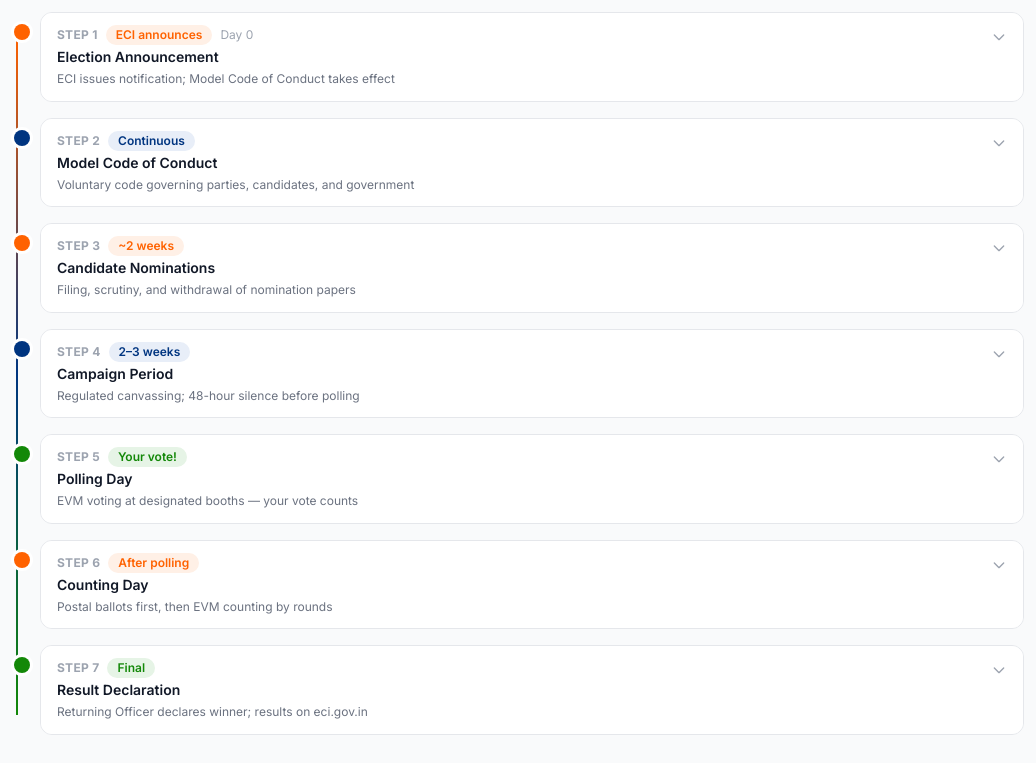
TimelineView › collapses an item when clicked again
This screenshot has width=1036, height=763.
Step 1. Click the 1st button → [75, 34], box [41, 13, 1023, 100]
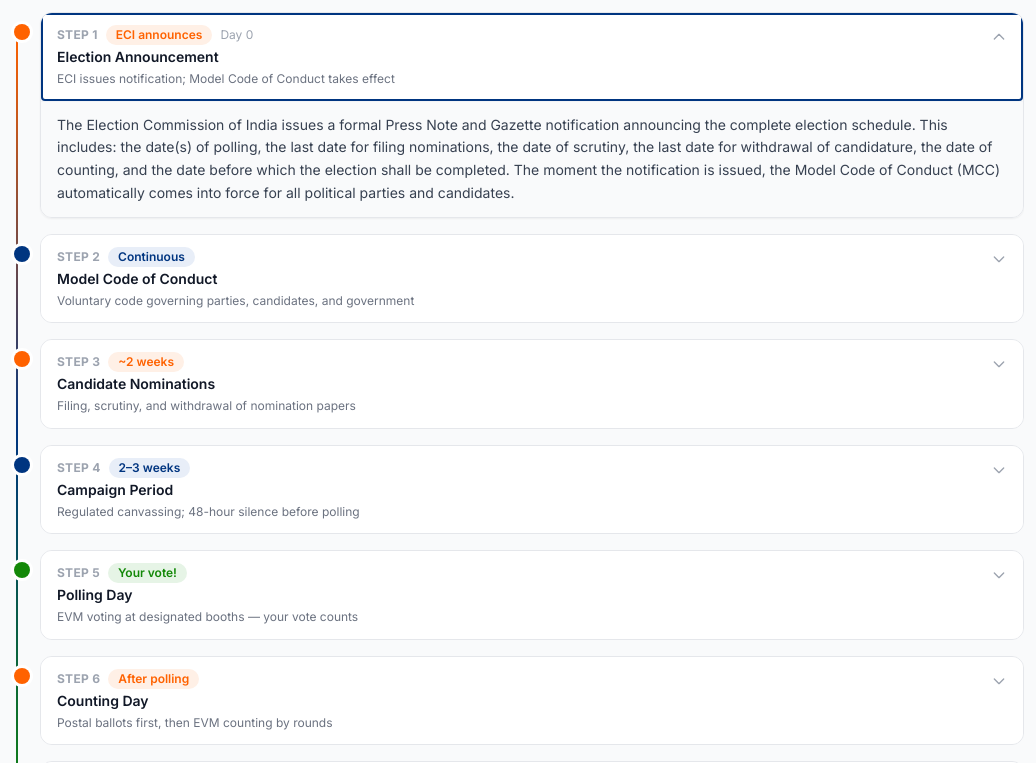
Step 2. Click the 1st button → [75, 34], box [41, 13, 1023, 100]
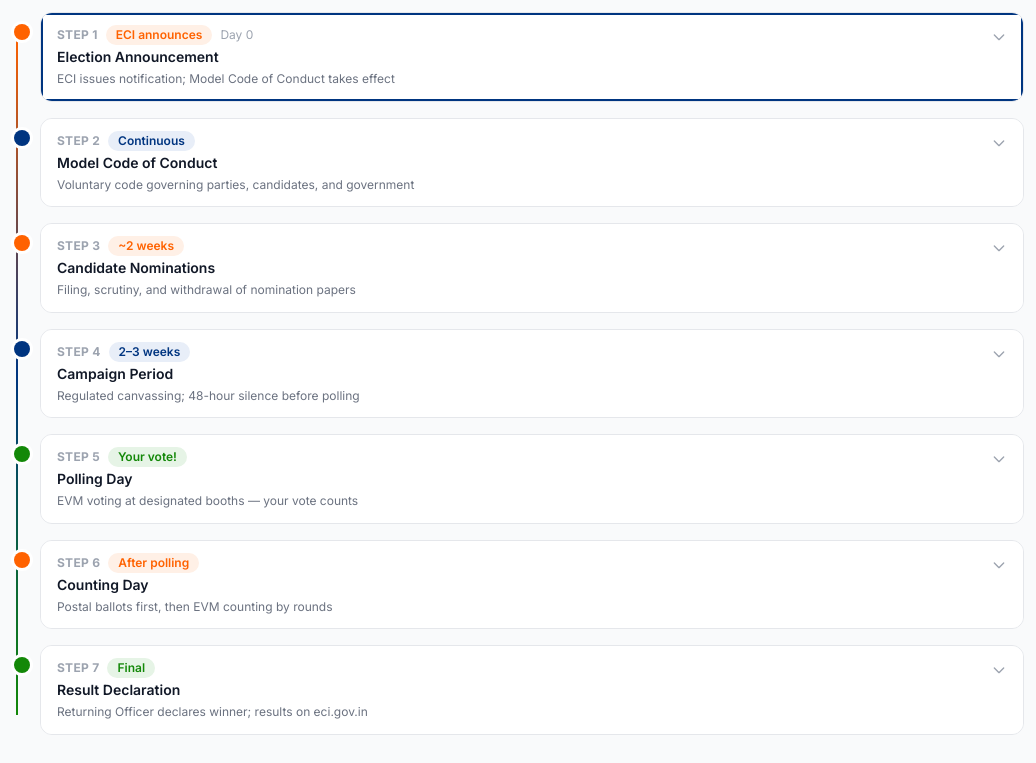
Expected: the 1st button is collapsed, [41, 13, 1023, 100]
